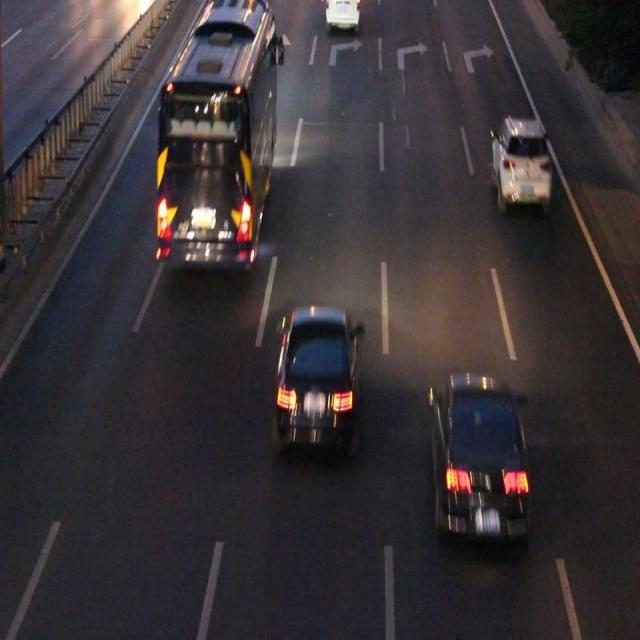car: (432, 376, 526, 538), (277, 308, 358, 450), (490, 119, 548, 202)
truck: (324, 1, 357, 26)
van: (157, 1, 274, 260)
